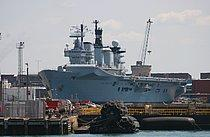MIL_Ship: (35, 17, 191, 103)
